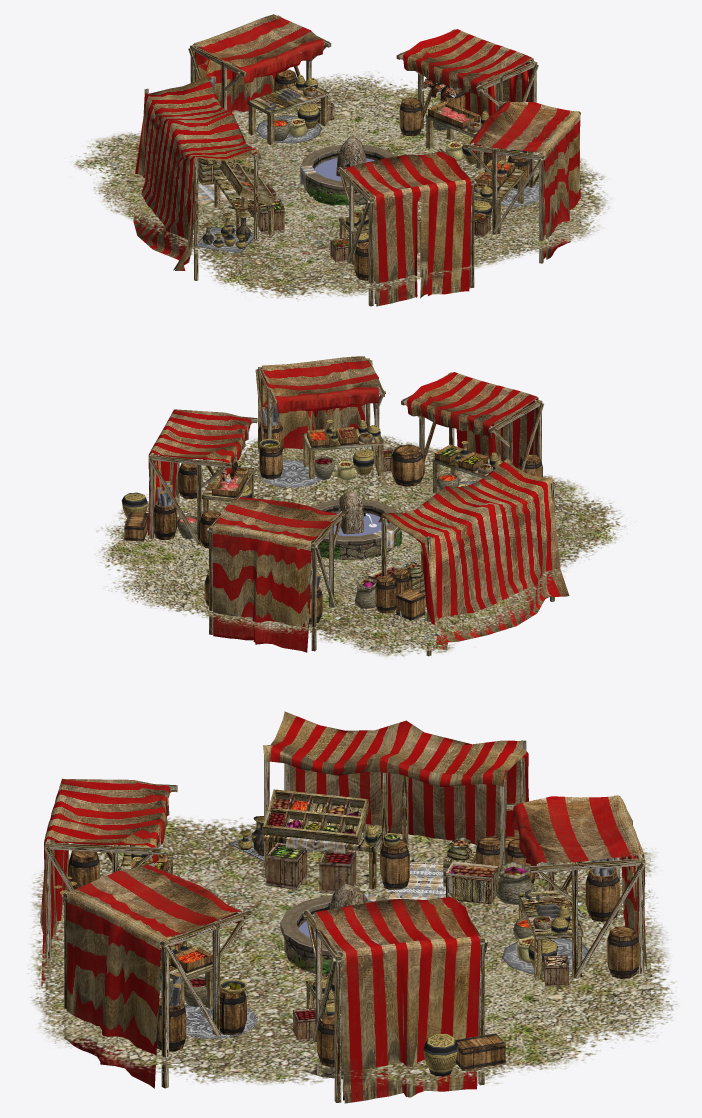
The picture shows the model from 3 angles, top to bottom: view 1: azimuth 30°, elevation 25°; view 2: azimuth 150°, elevation 25°; view 3: azimuth 270°, elevation 25°; orthographic projection. The views are drawn at different scales.
Parts seen in each view (by area): view 1: Plane, struct.002, struct.003, struct.006, struct.004, struct.005, struct, struct.001; view 2: Plane, struct.002, struct.006, struct.004, struct.003, struct.005, struct; view 3: Plane, struct.002, struct.005, struct.004, struct.006, struct.003, struct.
Boxes of the visible parts, bbox=[...] form: Plane: bbox=[71, 71, 609, 299]; struct.002: bbox=[128, 76, 284, 280]; struct.003: bbox=[330, 148, 476, 306]; struct.006: bbox=[188, 14, 334, 144]; struct.004: bbox=[463, 100, 581, 263]; struct.005: bbox=[396, 29, 538, 169]; struct: bbox=[300, 136, 396, 205]; struct.001: bbox=[306, 184, 355, 205]; Plane: bbox=[97, 435, 627, 656]; struct.002: bbox=[354, 458, 569, 656]; struct.006: bbox=[204, 495, 344, 652]; struct.004: bbox=[255, 356, 393, 487]; struct.003: bbox=[391, 372, 544, 493]; struct.005: bbox=[121, 409, 257, 548]; struct: bbox=[311, 492, 399, 631]; Plane: bbox=[29, 816, 677, 1086]; struct.002: bbox=[228, 711, 547, 904]; struct.005: bbox=[293, 893, 505, 1103]; struct.004: bbox=[61, 862, 257, 1088]; struct.006: bbox=[502, 795, 646, 1005]; struct.003: bbox=[40, 778, 177, 989]; struct: bbox=[280, 883, 388, 1079].
Size of the model in its own units: 24 by 8.81 by 24.
9 materials, 7 textured.
